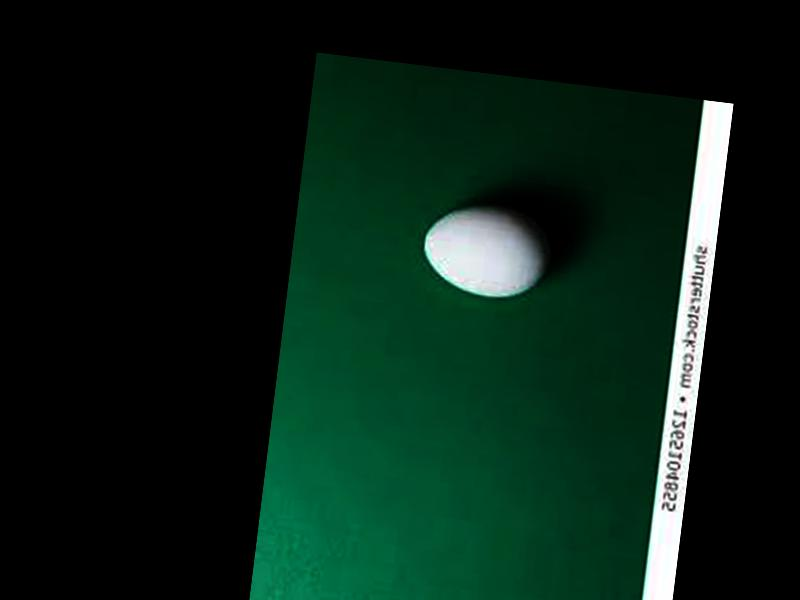Eggs: (419, 200, 555, 307)
